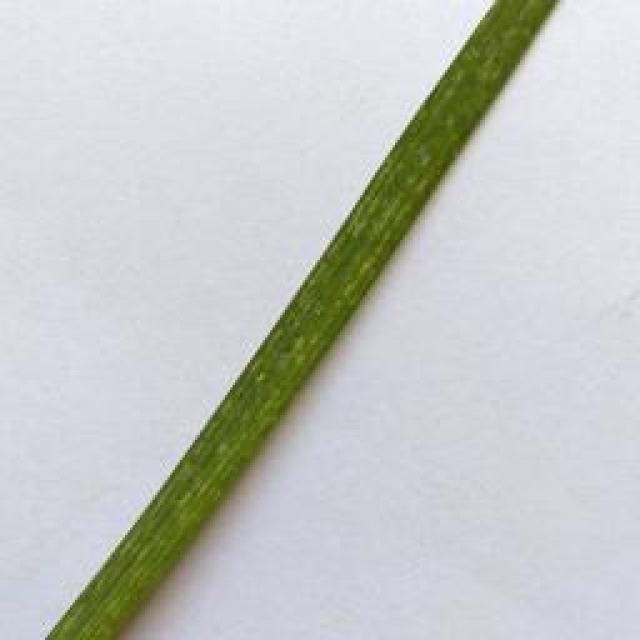Bacterial_Blight: (215, 179, 406, 462)
